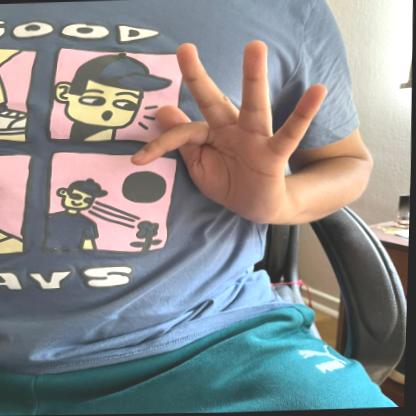F: (129, 29, 333, 224)
